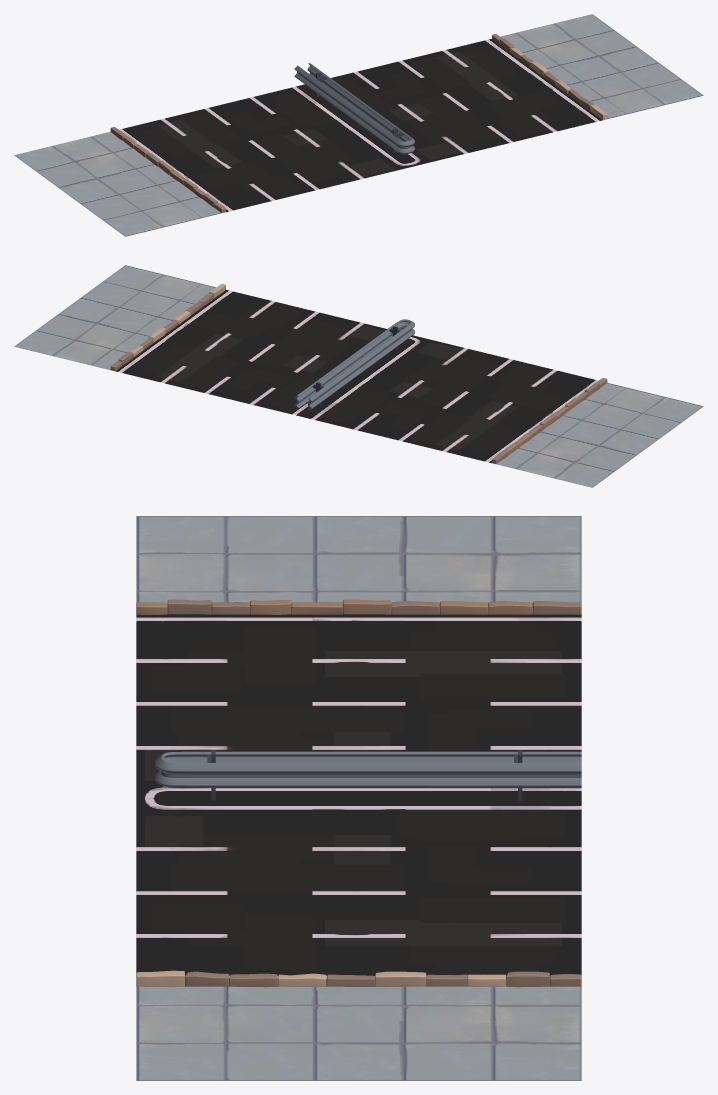
File: CityRoad_8LineStartEnd.fbx
The picture shows the model from 3 angles, top to bottom: view 1: azimuth 30°, elevation 25°; view 2: azimuth 150°, elevation 25°; view 3: azimuth 270°, elevation 25°; orthographic projection. The views are drawn at different scales.
Visible parts, largest first — view 1: CityRoad_8LineStartEnd_mesh; view 2: CityRoad_8LineStartEnd_mesh; view 3: CityRoad_8LineStartEnd_mesh.
Part boxes in pixels (left/top/right/bottom): CityRoad_8LineStartEnd_mesh: left=14, top=14, right=703, bottom=236; CityRoad_8LineStartEnd_mesh: left=14, top=265, right=703, bottom=487; CityRoad_8LineStartEnd_mesh: left=136, top=516, right=581, bottom=1080.
Size of the model in its own units: 3000 by 114 by 1000.
